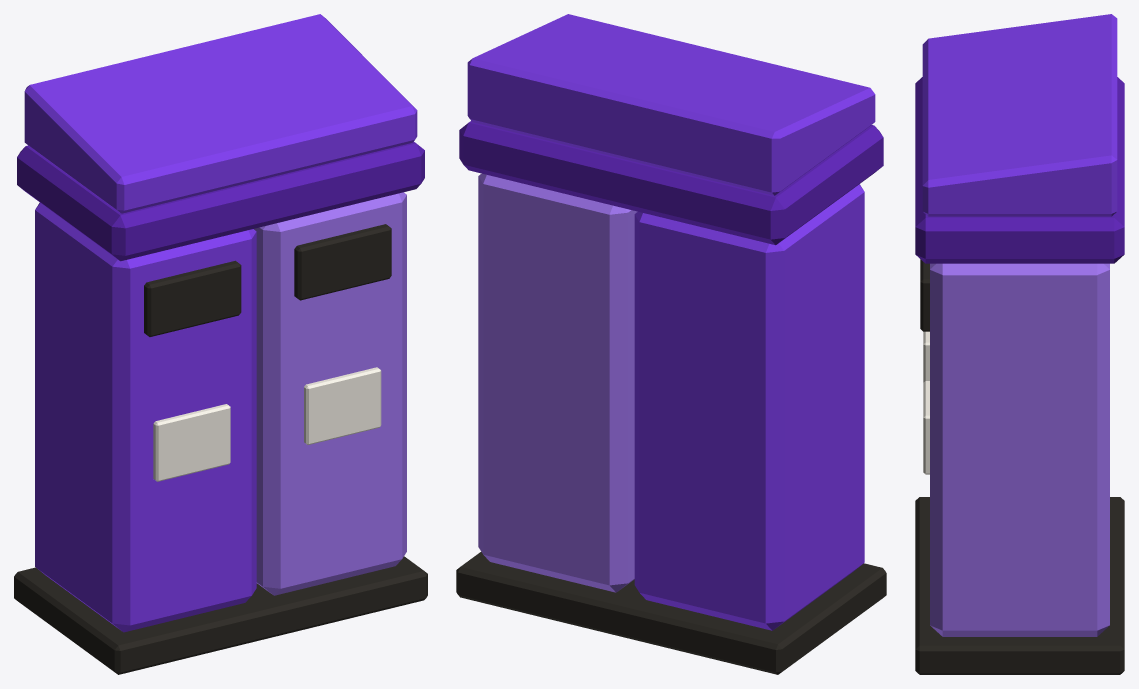
The model's file is street-bin.glb.
The picture shows the model from 3 angles, left to right: view 1: azimuth 30°, elevation 25°; view 2: azimuth 150°, elevation 25°; view 3: azimuth 270°, elevation 25°; orthographic projection. The views are drawn at different scales.
Visible parts, largest first — view 1: body, body2, ink, body3, paper; view 2: body, body2, body3, ink; view 3: body2, body, ink, body3, paper.
Boxes of the visible parts, x1,y1,x2,y2 form: body: (24,14,417,632); body2: (254,192,406,595); ink: (14,224,427,674); body3: (17,141,424,261); paper: (153,367,381,481); body: (467,14,875,630); body2: (478,173,637,592); body3: (459,121,883,245); ink: (456,552,886,674); body2: (930,263,1109,636); body: (922,14,1117,216); ink: (915,259,1124,674); body3: (915,77,1124,263); paper: (923,331,929,474).
Bounding box in the file's own units: 5 × 7.89 × 2.9.
